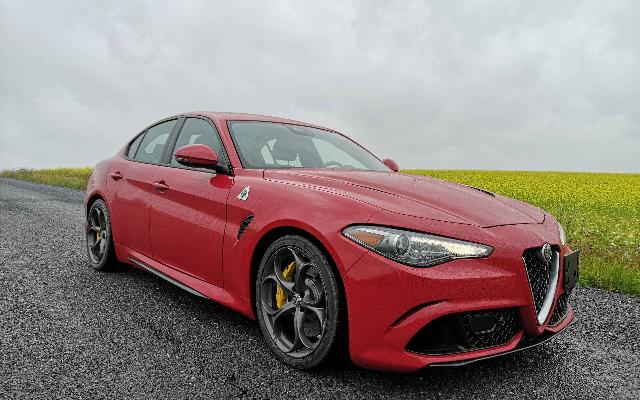alpha-romeo: (83, 110, 581, 378)
